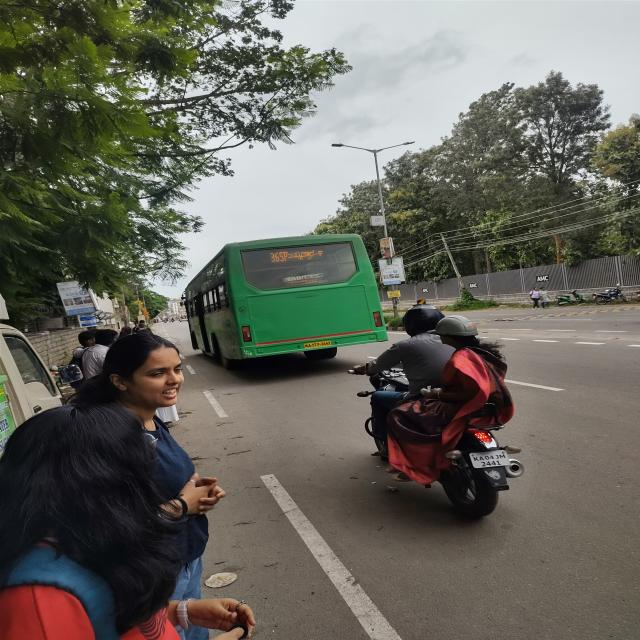bus: (185, 225, 385, 368)
display: (269, 246, 326, 265)
dnumber: (271, 250, 287, 262)
